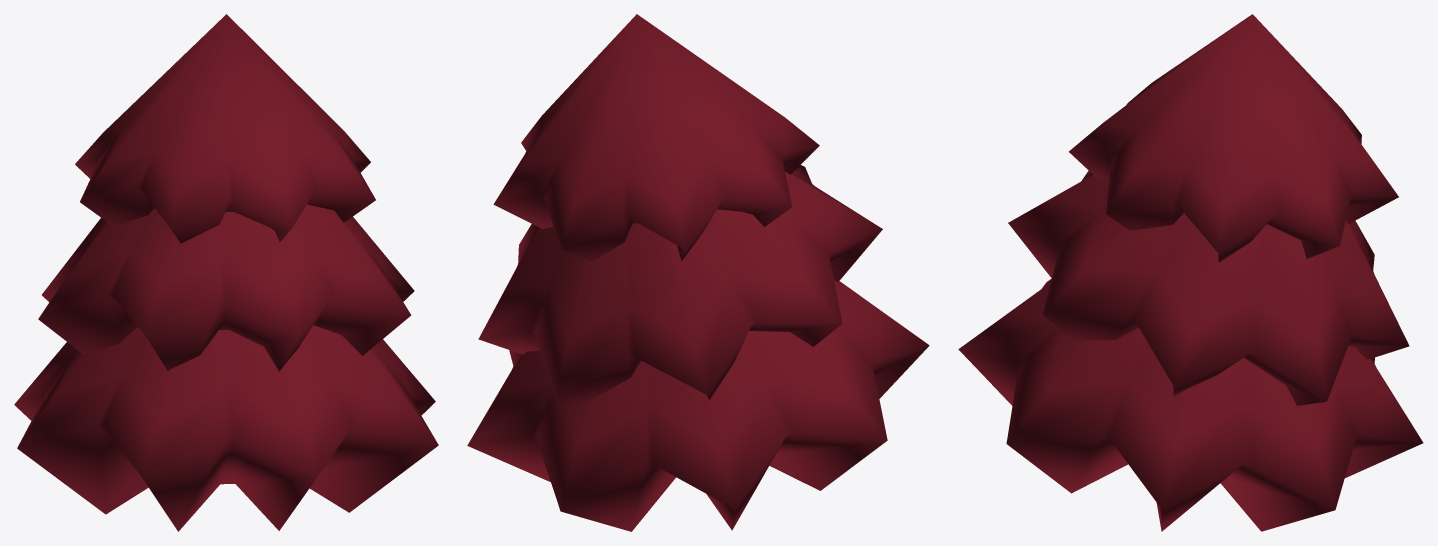
The model's file is tree4_3_s3.fbx.
3 renders of one model, left to right at view 1: azimuth 30°, elevation 25°; view 2: azimuth 150°, elevation 25°; view 3: azimuth 270°, elevation 25°, orthographic. The views are drawn at different scales.
Parts seen in each view (by area): view 1: Circle.012; view 2: Circle.012; view 3: Circle.012.
Boxes of the visible parts, x1=… form: Circle.012: x1=14, y1=14, x2=438, y2=531; Circle.012: x1=467, y1=14, x2=929, y2=531; Circle.012: x1=958, y1=14, x2=1423, y2=531.
Bounding box in the file's own units: 182 × 209 × 180.
